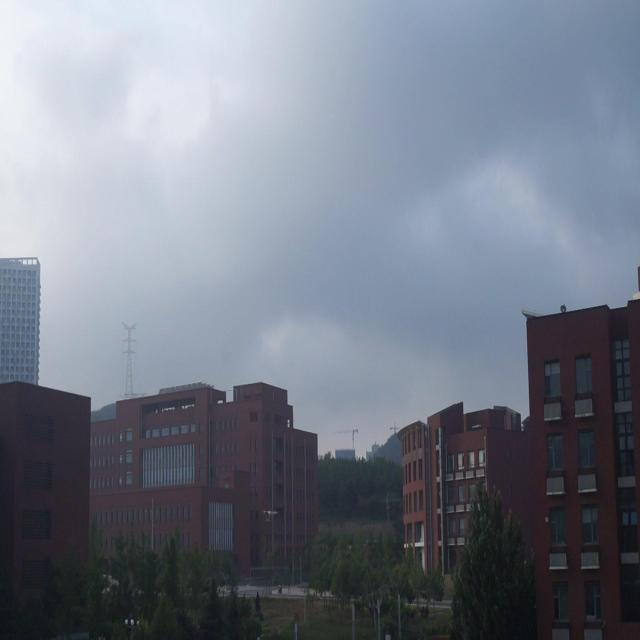drone: (260, 506, 284, 524)
